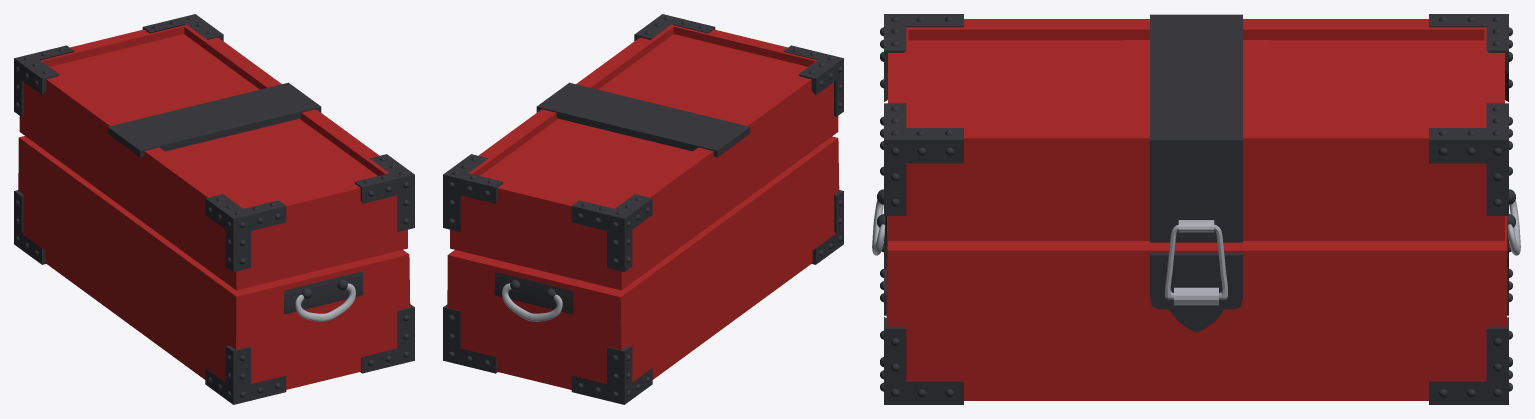
File: CofreJapones.fbx
3 views of the same model, side by side, from view 1: azimuth 30°, elevation 25°; view 2: azimuth 150°, elevation 25°; view 3: azimuth 270°, elevation 25° (orthographic). The views are drawn at different scales.
Parts seen in each view (by area): view 1: Chest, Corners, LockBelt, HandleBase, Handles; view 2: Chest, Corners, LockBelt, HandleBase, Handles; view 3: Chest, LockBelt, Corners, Lock, Handles.
Part boxes in pixels (<box>): Chest: <box>18,24,410,389</box>; Corners: <box>14,14,414,404</box>; LockBelt: <box>107,82,321,157</box>; HandleBase: <box>284,271,363,314</box>; Handles: <box>295,283,355,321</box>; Chest: <box>447,24,839,389</box>; Corners: <box>443,14,843,404</box>; LockBelt: <box>536,82,750,157</box>; HandleBase: <box>494,272,573,314</box>; Handles: <box>502,283,562,321</box>; Chest: <box>886,19,1507,400</box>; LockBelt: <box>1150,14,1242,332</box>; Corners: <box>880,14,1512,404</box>; Lock: <box>1165,220,1227,305</box>; Handles: <box>872,200,1520,255</box>.
Bounding box in the file's own units: 348 × 334 × 723.
